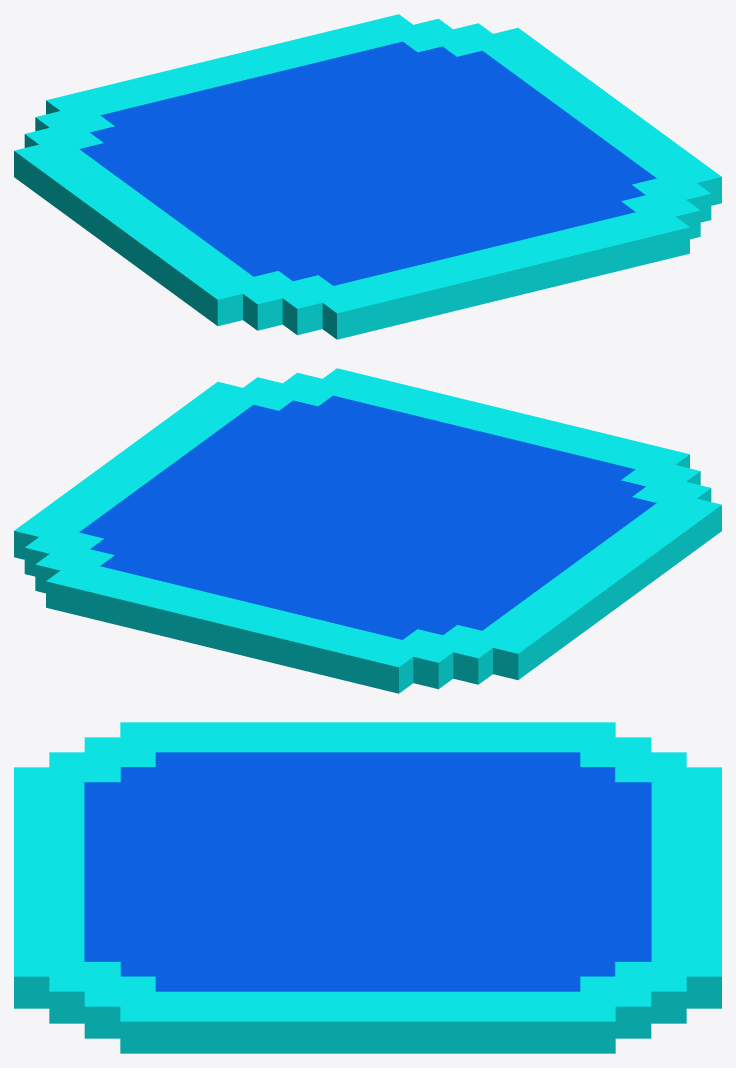
The model's file is trainLine_Big_Center.fbx.
3 views of the same model, one above another, from view 1: azimuth 30°, elevation 25°; view 2: azimuth 150°, elevation 25°; view 3: azimuth 270°, elevation 25° (orthographic). The views are drawn at different scales.
Parts seen in each view (by area): view 1: trainTileBig; view 2: trainTileBig; view 3: trainTileBig.
Part boxes in pixels (left/top/right/bottom): trainTileBig: left=14, top=14, right=721, bottom=339; trainTileBig: left=14, top=368, right=721, bottom=693; trainTileBig: left=14, top=722, right=721, bottom=1053.
Bounding box in the file's own units: 200 × 10 × 200.
